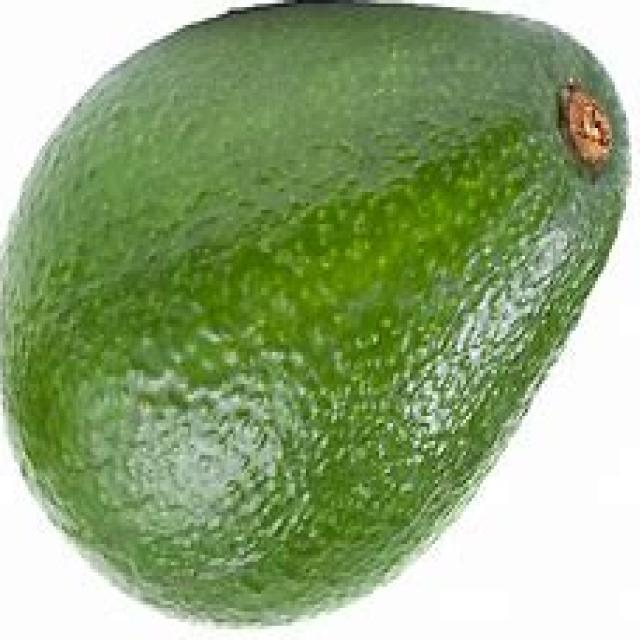avocado: (0, 0, 639, 628)
